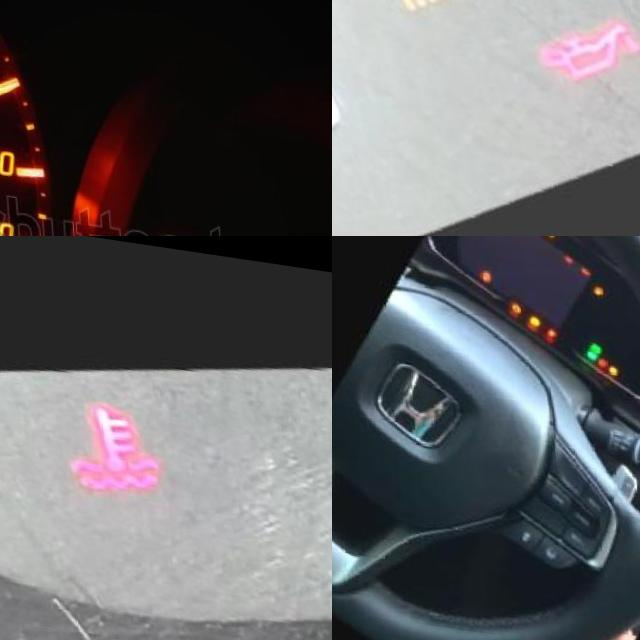Engine cooling system: (50, 383, 162, 501)
